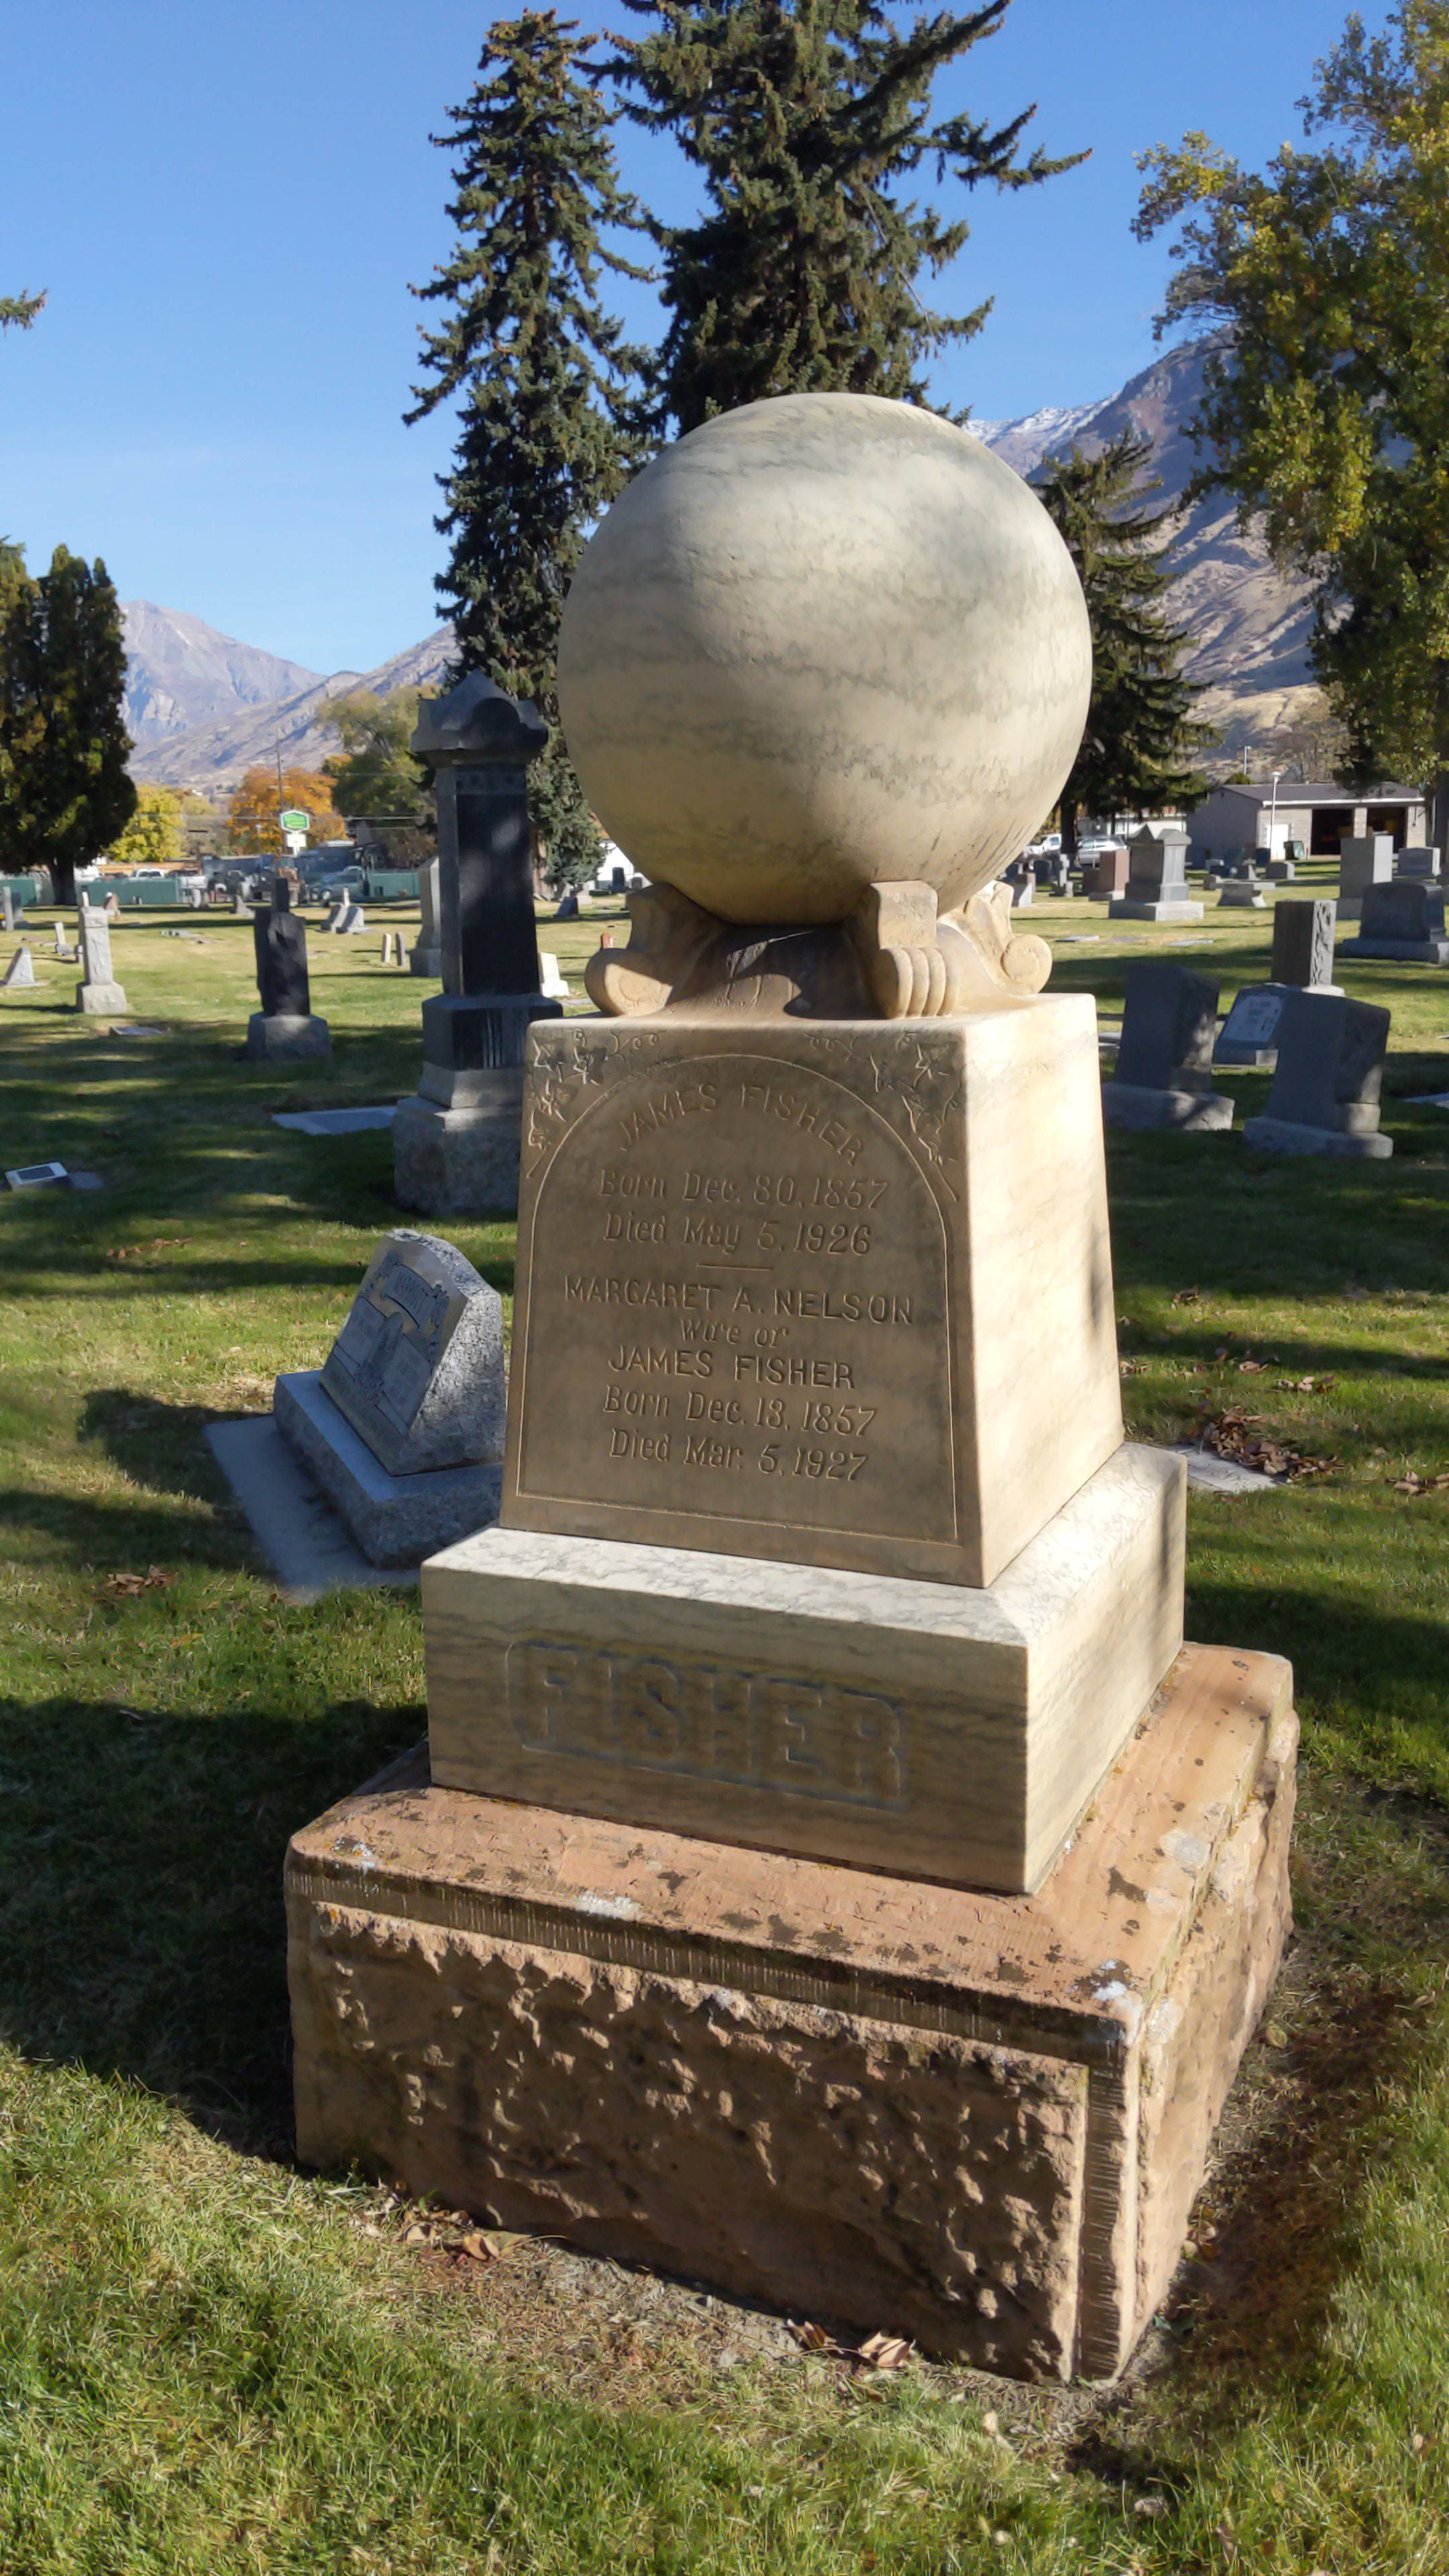obelisk: (426, 384, 1182, 1897)
